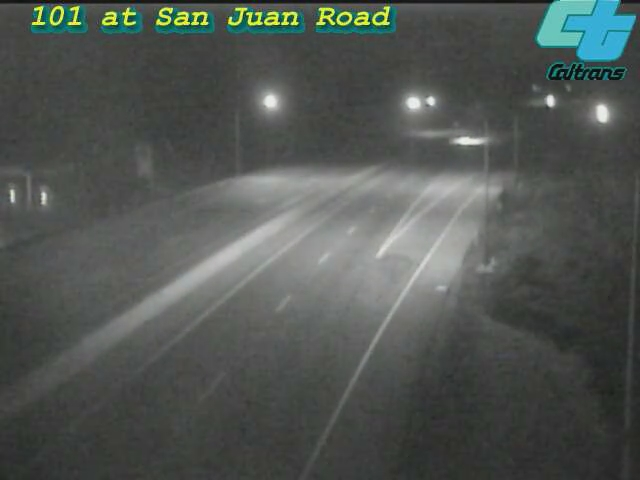vehicle: (440, 116, 490, 166), (574, 90, 624, 140)
